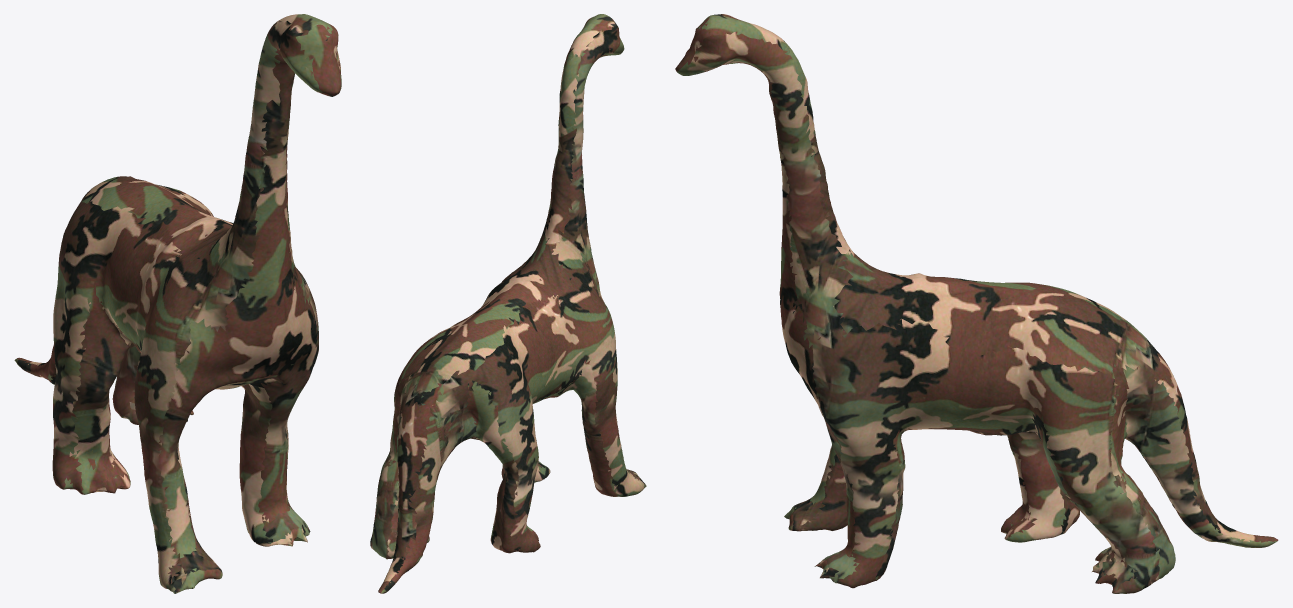
Rendered from dino.fbx.
3 views of the same model, side by side, from view 1: azimuth 30°, elevation 25°; view 2: azimuth 150°, elevation 25°; view 3: azimuth 270°, elevation 25° (orthographic). The views are drawn at different scales.
Visible parts, largest first — view 1: body-vhacd; view 2: body-vhacd; view 3: body-vhacd.
Boxes of the visible parts, left/top/right/bottom form: body-vhacd: left=14, top=14, right=341, bottom=593; body-vhacd: left=370, top=14, right=646, bottom=593; body-vhacd: left=675, top=14, right=1278, bottom=593.
Size of the model in its own units: 207 by 595 by 593.
Materials: 1 (1 with a texture image).
